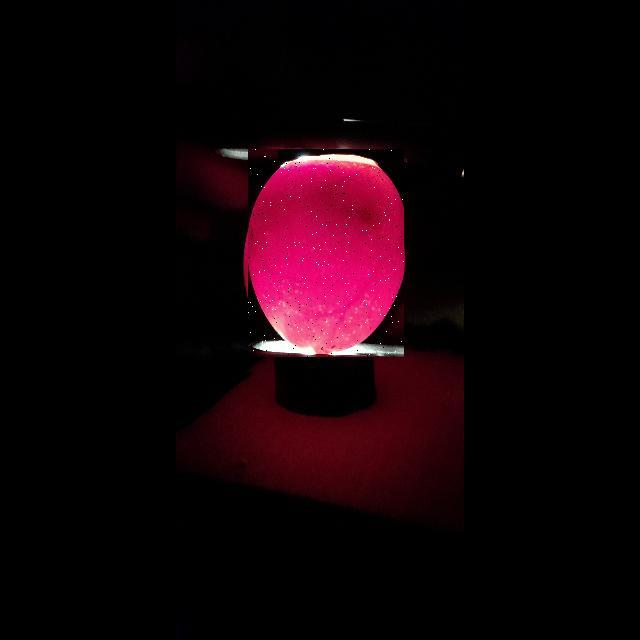Fertile: (248, 149, 404, 357)
